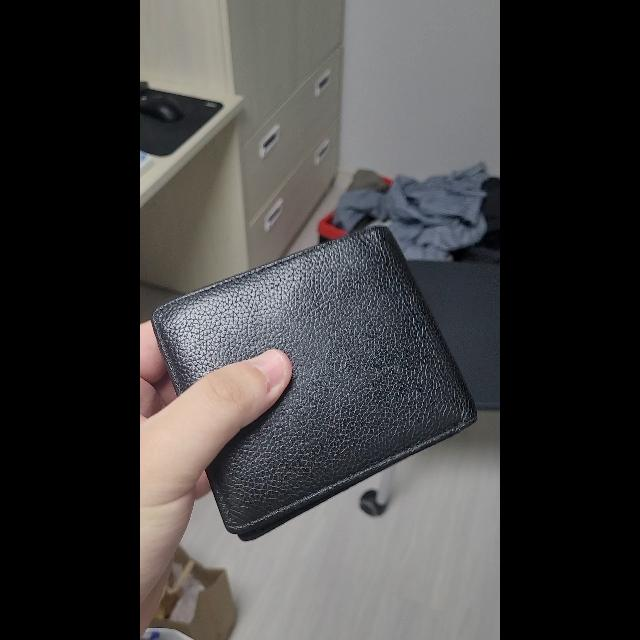WALLET: (150, 225, 478, 540)
